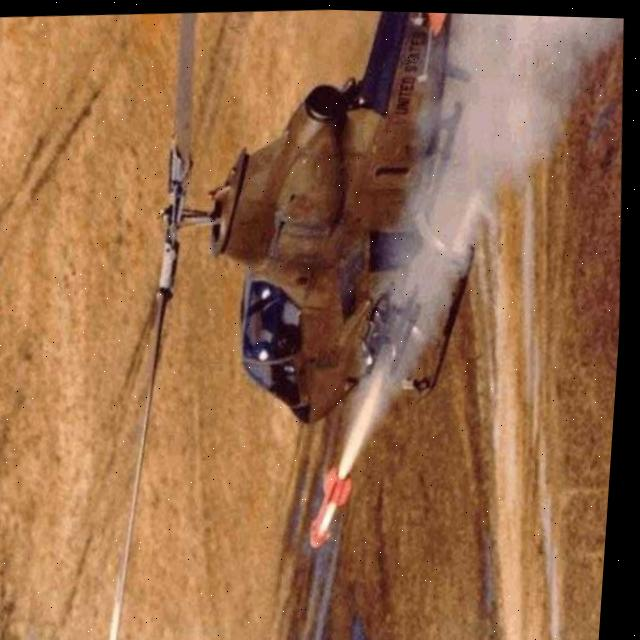missile: (305, 464, 364, 547)
